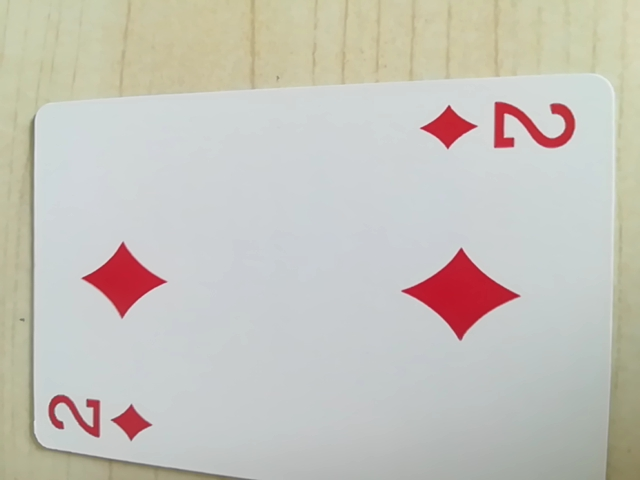fk 2: (422, 94, 582, 161), (43, 384, 165, 454)
